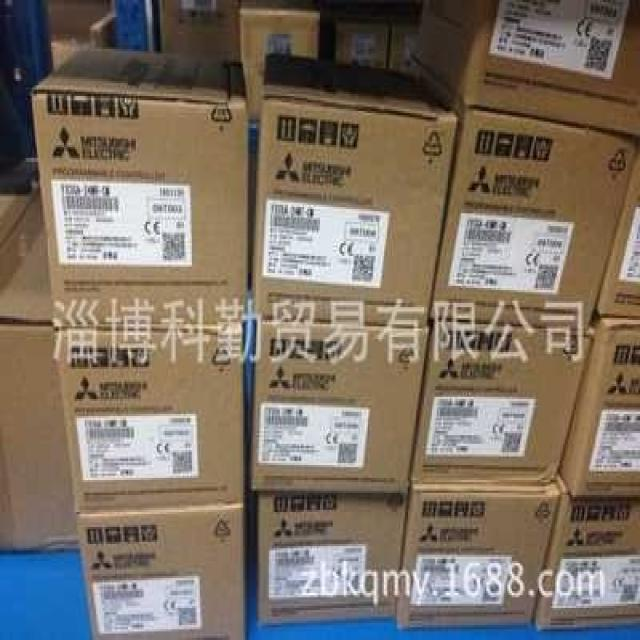box: (32, 49, 246, 324), (253, 55, 456, 326), (429, 107, 638, 326), (56, 326, 245, 514), (248, 320, 427, 493), (414, 0, 640, 137), (411, 322, 594, 482), (0, 203, 78, 555), (394, 480, 562, 629), (75, 506, 246, 640), (259, 493, 406, 629), (557, 318, 640, 499), (533, 497, 640, 627), (240, 6, 320, 119), (594, 141, 640, 316), (333, 19, 389, 66), (0, 194, 38, 254)
